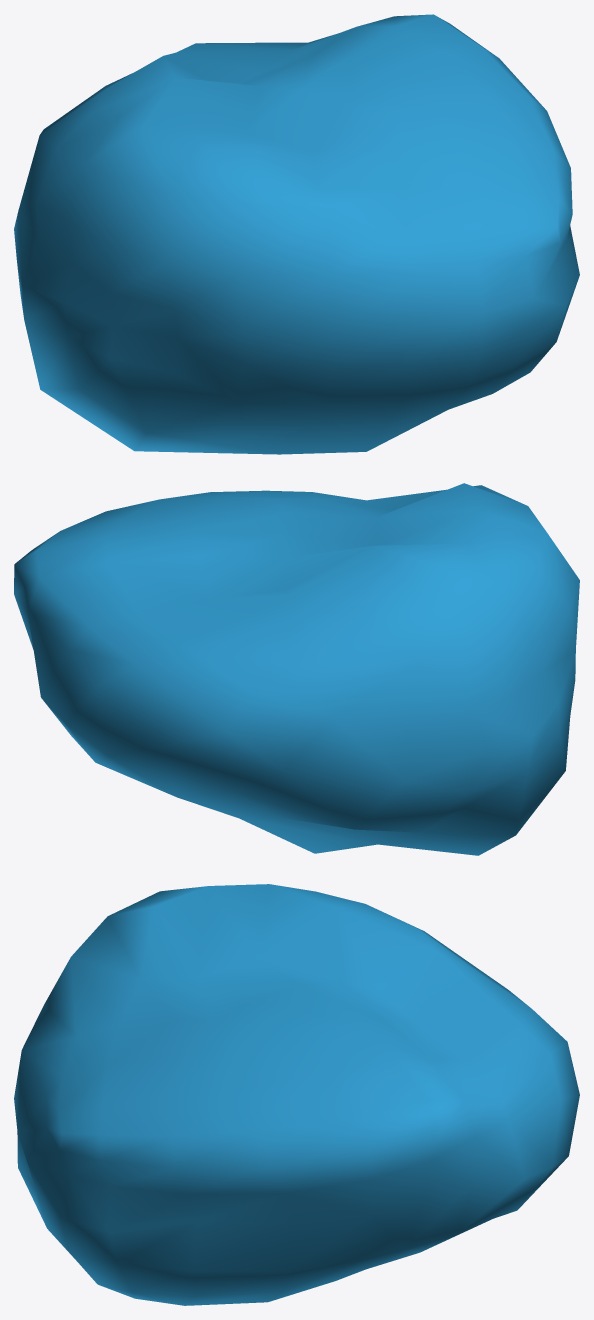
File: Rock_S_03_Lod0.fbx
The picture shows the model from 3 angles, top to bottom: view 1: azimuth 30°, elevation 25°; view 2: azimuth 150°, elevation 25°; view 3: azimuth 270°, elevation 25°; orthographic projection. The views are drawn at different scales.
Parts seen in each view (by area): view 1: Rock_S_03_Lod0; view 2: Rock_S_03_Lod0; view 3: Rock_S_03_Lod0.
Part boxes in pixels (<box>): Rock_S_03_Lod0: <box>14,14,579,454</box>; Rock_S_03_Lod0: <box>14,483,579,855</box>; Rock_S_03_Lod0: <box>14,884,579,1305</box>.
Bounding box in the file's own units: 498 × 327 × 489.
